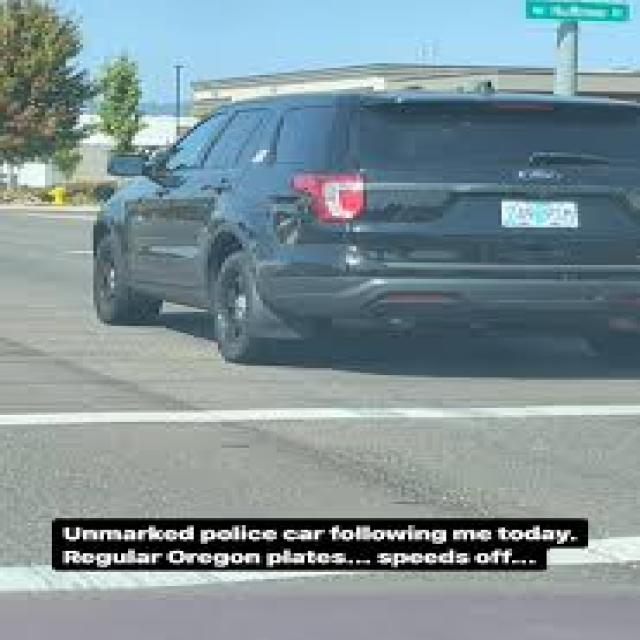cop: (78, 85, 640, 371)
